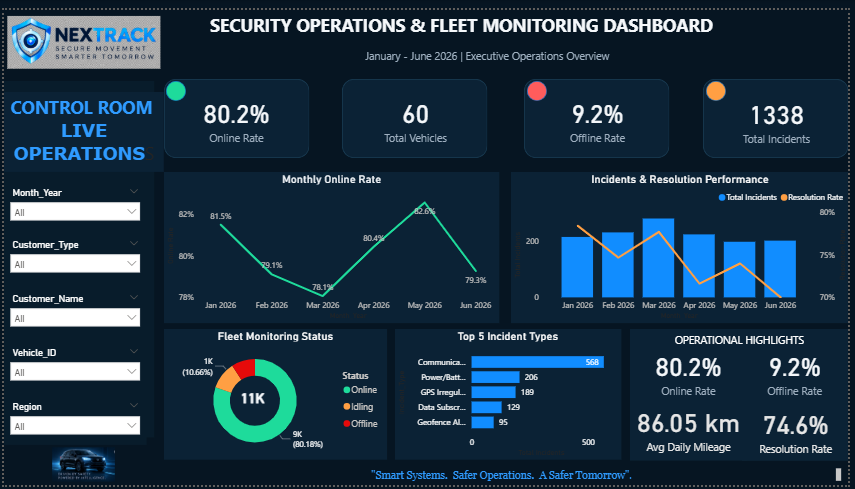

This screenshot's page, from the dashboard's own definition file:
{"tool":"powerbi","page":{"name":"Executive Overview","canvas":[1280,720],"ordinal":1},"visuals":[{"type":"shape","box":[241.9,105.1,220.3,119.5],"z":0},{"type":"card","fields":{"Values":["Measures Table.Online Rate"]},"box":[250.6,113.8,204.5,102.2],"z":1000},{"type":"shape","box":[512.6,105.1,220.3,119.5],"z":2000},{"type":"card","fields":{"Values":["Measures Table.Total Vehicles"]},"box":[521.3,113.8,204.5,102.2],"z":3000},{"type":"shape","box":[787.7,105.1,220.3,119.5],"z":4000},{"type":"card","fields":{"Values":["Measures Table.Offline Rate"]},"box":[796.3,113.8,204.5,102.2],"z":5000},{"type":"shape","box":[792,108,30.2,30.2],"z":6000},{"type":"shape","box":[244.8,108,30.2,30.2],"z":7000},{"type":"shape","box":[1059.8,105.1,220.3,119.5],"z":8000},{"type":"card","fields":{"Values":["Measures Table.Total Incidents"]},"box":[1068.5,113.8,204.5,103.7],"z":9000},{"type":"shape","box":[1064.2,108,30.2,30.2],"z":10000},{"type":"textbox","box":[267.8,0,849.6,47.5],"z":11000},{"type":"textbox","box":[432,36,600.5,61.9],"z":12000},{"type":"shape","box":[0,108,227.5,540],"z":13000},{"type":"slicer","fields":{"Values":["Calendar.Month_Year"]},"box":[0,263.5,216,70.6],"z":14000},{"type":"slicer","fields":{"Values":["Customers.Customer_Type"]},"box":[0,342.7,216,70.6],"z":15000},{"type":"slicer","fields":{"Values":["Customers.Customer_Name"]},"box":[0,424.8,216,70.6],"z":16000},{"type":"slicer","fields":{"Values":["Vehicles.Vehicle_ID"]},"box":[0,505.4,216,70.6],"z":17000},{"type":"slicer","fields":{"Values":["Vehicles.Region"]},"box":[0,587.5,216,70.6],"z":18000},{"type":"lineChart","title":"Monthly Online Rate","fields":{"Category":["Calendar.Month_Year"],"Y":["Measures Table.Online Rate"]},"box":[241.9,244.8,508.3,229],"z":19000},{"type":"lineClusteredColumnComboChart","title":"Incidents & Resolution Performance","fields":{"Category":["Calendar.Month_Year"],"Y":["Measures Table.Total Incidents"],"Y2":["Measures Table.Resolution Rate"]},"box":[767.5,244.8,512.6,229],"z":20000},{"type":"donutChart","title":"Fleet Monitoring Status","fields":{"Category":["Daily_Monitoring.Status"],"Y":["Measures Table.Total Monitoring Records"]},"box":[241.9,483.8,337.6,198.2],"z":21000},{"type":"card","fields":{"Values":["Measures Table.Total Monitoring Records"]},"box":[352.8,567.8,47,40.3],"z":22000},{"type":"barChart","title":"Top 5 Incident Types","fields":{"Category":["Incidents.Incident_Type"],"Y":["Measures Table.Total Incidents"]},"box":[593,483.8,342.7,198.2],"z":23000},{"type":"shape","box":[949,483.8,331.2,198.7],"z":24000},{"type":"textbox","box":[963.4,483.8,301,46.1],"z":25000},{"type":"card","fields":{"Values":["Measures Table.Online Rate"]},"box":[949,506.9,177.1,80.6],"z":26000},{"type":"card","fields":{"Values":["Measures Table.Offline Rate"]},"box":[1114.6,506.9,165.6,80.6],"z":27000},{"type":"card","fields":{"Values":["Measures Table.Resolution Rate"]},"box":[1117.4,587.5,162.7,95],"z":28000},{"type":"card","fields":{"Values":["Measures Table.Avg Daily Mileage Display"]},"box":[949,583.2,177.1,99.4],"z":29000},{"type":"image","box":[0,0,241.9,97.9],"z":30000},{"type":"image","box":[0,658.1,241.9,61.9],"z":31000},{"type":"textbox","box":[241.9,689.8,1031,30.2],"z":31001},{"type":"textbox","box":[0,123.8,241.9,121],"z":31002}]}

Visuals, with their boxes in screenshot pixels (x1, y1, x2, y2), scaled from the page's 1280x720 canvas onto the 855x489 screenshot:
shape: (162, 71, 309, 153)
card - Measures Table.Online Rate: (167, 77, 304, 147)
shape: (342, 71, 490, 153)
card - Measures Table.Total Vehicles: (348, 77, 485, 147)
shape: (526, 71, 673, 153)
card - Measures Table.Offline Rate: (532, 77, 669, 147)
shape: (529, 73, 549, 94)
shape: (164, 73, 184, 94)
shape: (708, 71, 854, 153)
card - Measures Table.Total Incidents: (714, 77, 850, 148)
shape: (711, 73, 731, 94)
textbox: (179, 0, 746, 32)
textbox: (289, 24, 690, 66)
shape: (0, 73, 152, 440)
slicer - Calendar.Month_Year: (0, 179, 144, 227)
slicer - Customers.Customer_Type: (0, 233, 144, 281)
slicer - Customers.Customer_Name: (0, 289, 144, 336)
slicer - Vehicles.Vehicle_ID: (0, 343, 144, 391)
slicer - Vehicles.Region: (0, 399, 144, 447)
"Monthly Online Rate" lineChart: (162, 166, 501, 322)
"Incidents & Resolution Performance" lineClusteredColumnComboChart: (513, 166, 854, 322)
"Fleet Monitoring Status" donutChart: (162, 329, 387, 463)
card - Measures Table.Total Monitoring Records: (236, 386, 267, 413)
"Top 5 Incident Types" barChart: (396, 329, 625, 463)
shape: (634, 329, 854, 464)
textbox: (644, 329, 845, 360)
card - Measures Table.Online Rate: (634, 344, 752, 399)
card - Measures Table.Offline Rate: (745, 344, 854, 399)
card - Measures Table.Resolution Rate: (746, 399, 854, 464)
card - Measures Table.Avg Daily Mileage Display: (634, 396, 752, 464)
image: (0, 0, 162, 66)
image: (0, 447, 162, 488)
textbox: (162, 468, 850, 488)
textbox: (0, 84, 162, 166)
